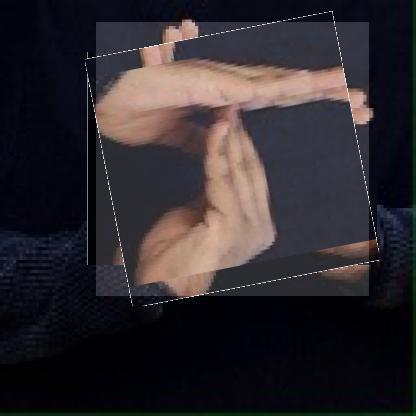Z: (96, 22, 370, 297)
